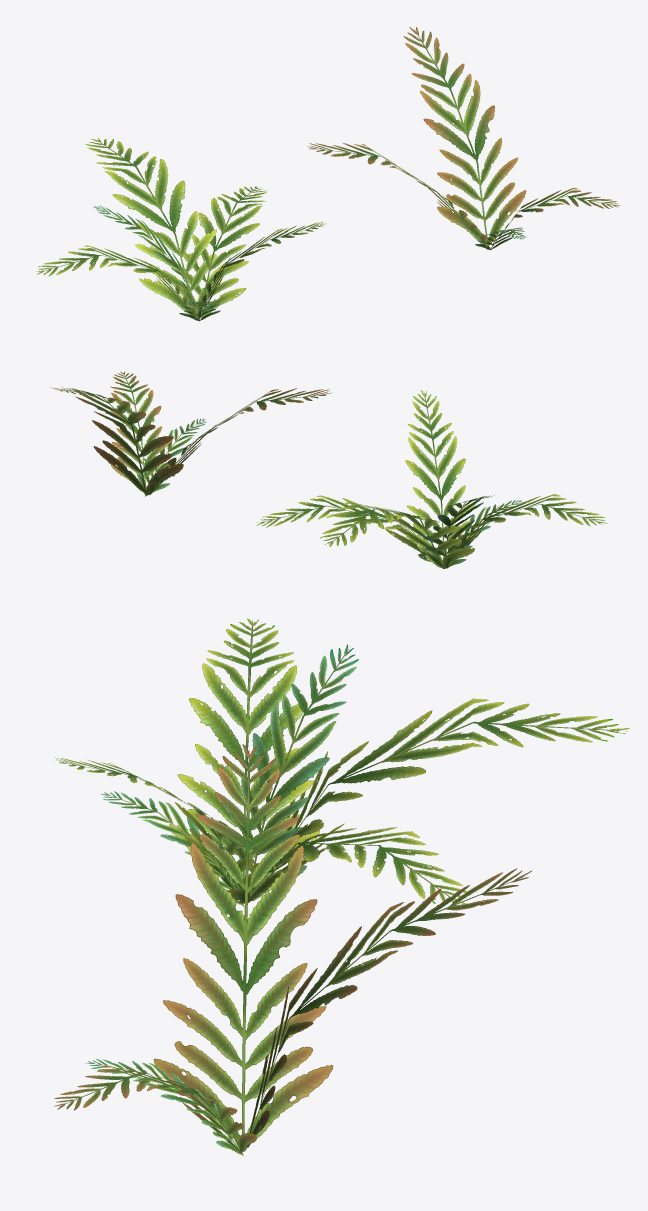
File: 9_Hojas_Helechos.fbx
The picture shows the model from 3 angles, top to bottom: view 1: azimuth 30°, elevation 25°; view 2: azimuth 150°, elevation 25°; view 3: azimuth 270°, elevation 25°; orthographic projection. The views are drawn at different scales.
Parts seen in each view (by area): view 1: 2_Racimo_Helecho; view 2: 2_Racimo_Helecho; view 3: 2_Racimo_Helecho.
Part boxes in pixels (x1,y1,x2,y2): 2_Racimo_Helecho: (36,27,620,321); 2_Racimo_Helecho: (50,371,607,569); 2_Racimo_Helecho: (54,618,629,1155).
Size of the model in its own units: 801 by 230 by 440.
